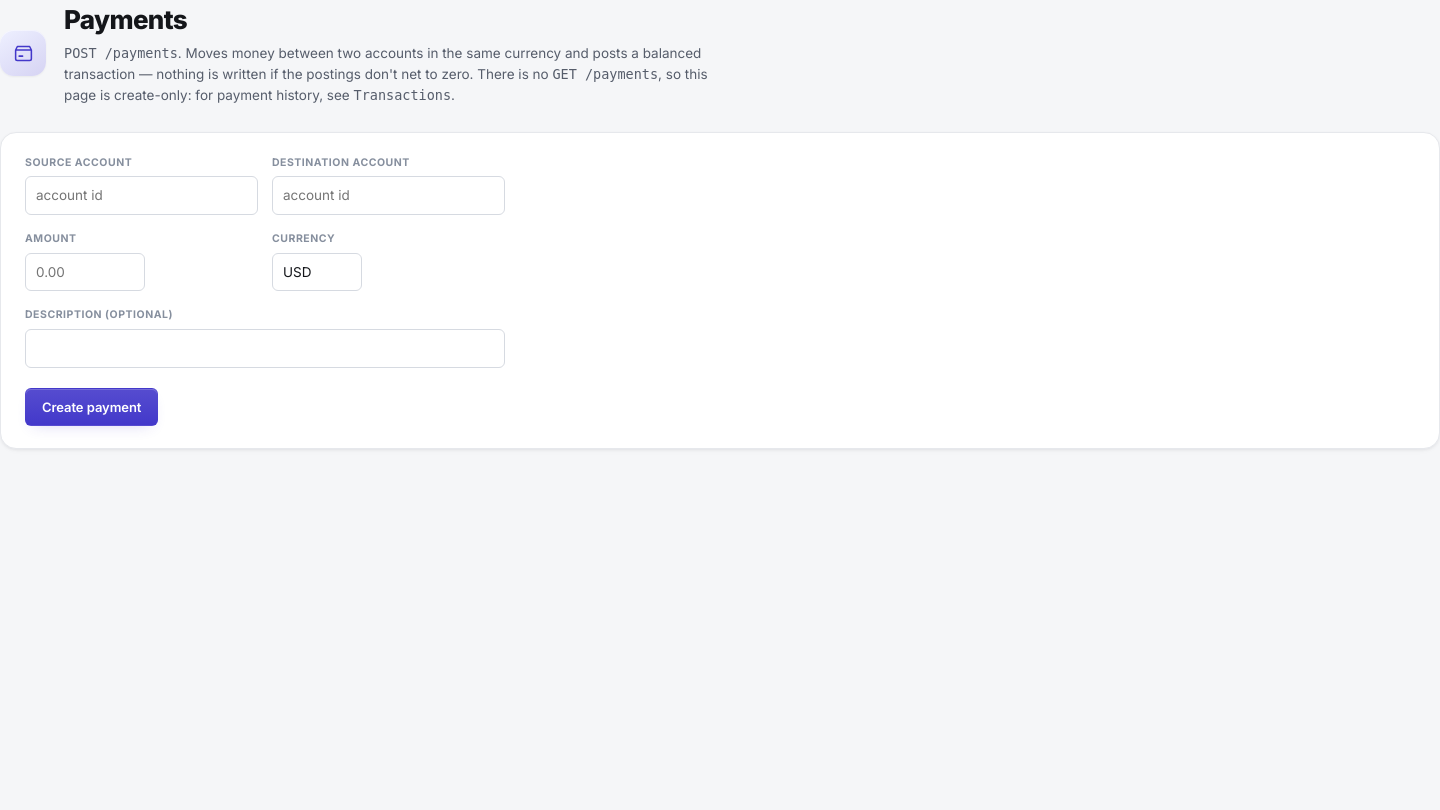
it: LedgerPaymentsPage › posts a payment and shows a receipt with a refund action, never a bare balance change
Type "11111111-1111-1111-1111-111111111111" into the field with placeholder "account id" at (142, 196), box 25,176 -> 258,215
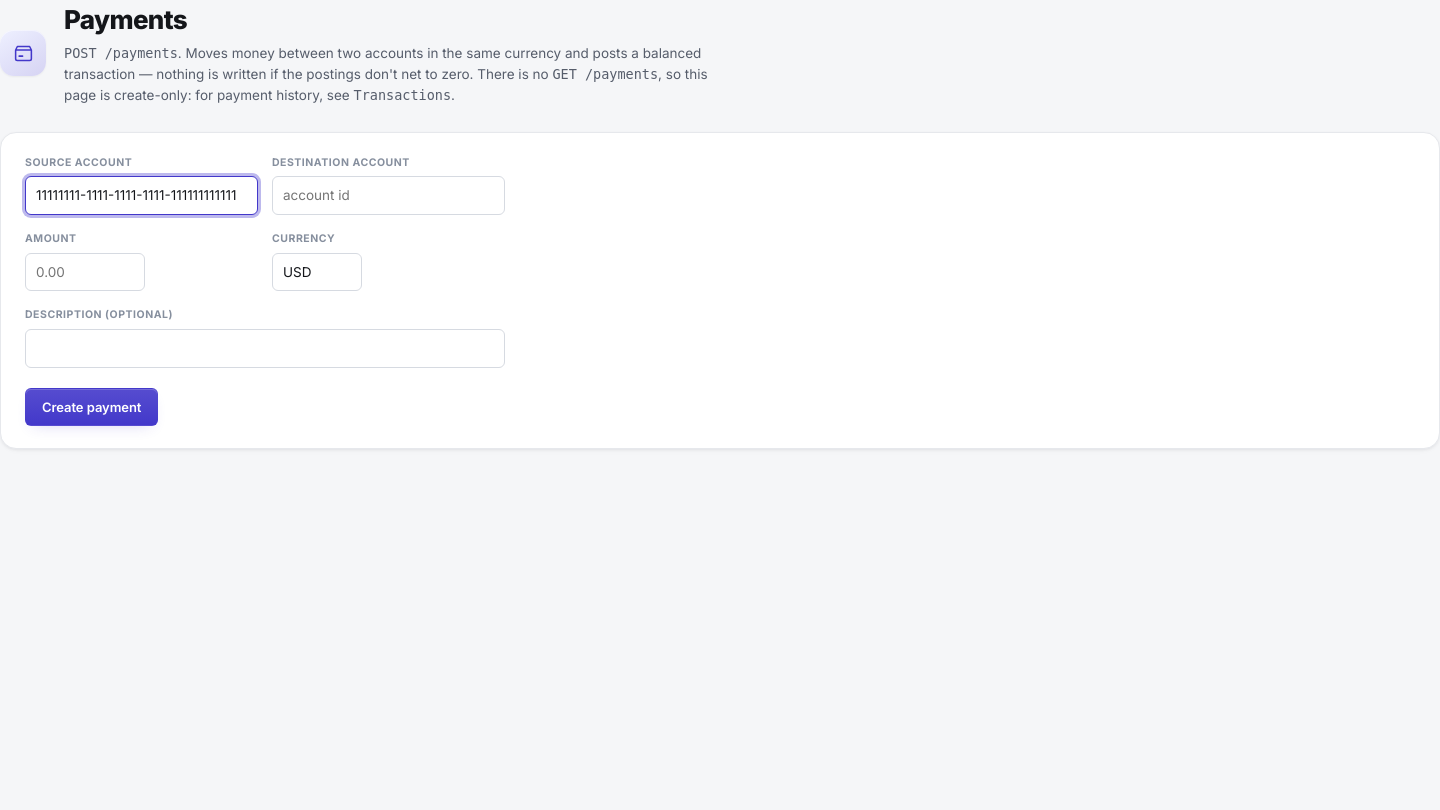
Type "22222222-2222-2222-2222-222222222222" into the field with placeholder "account id" at (388, 196), box 272,176 -> 505,215
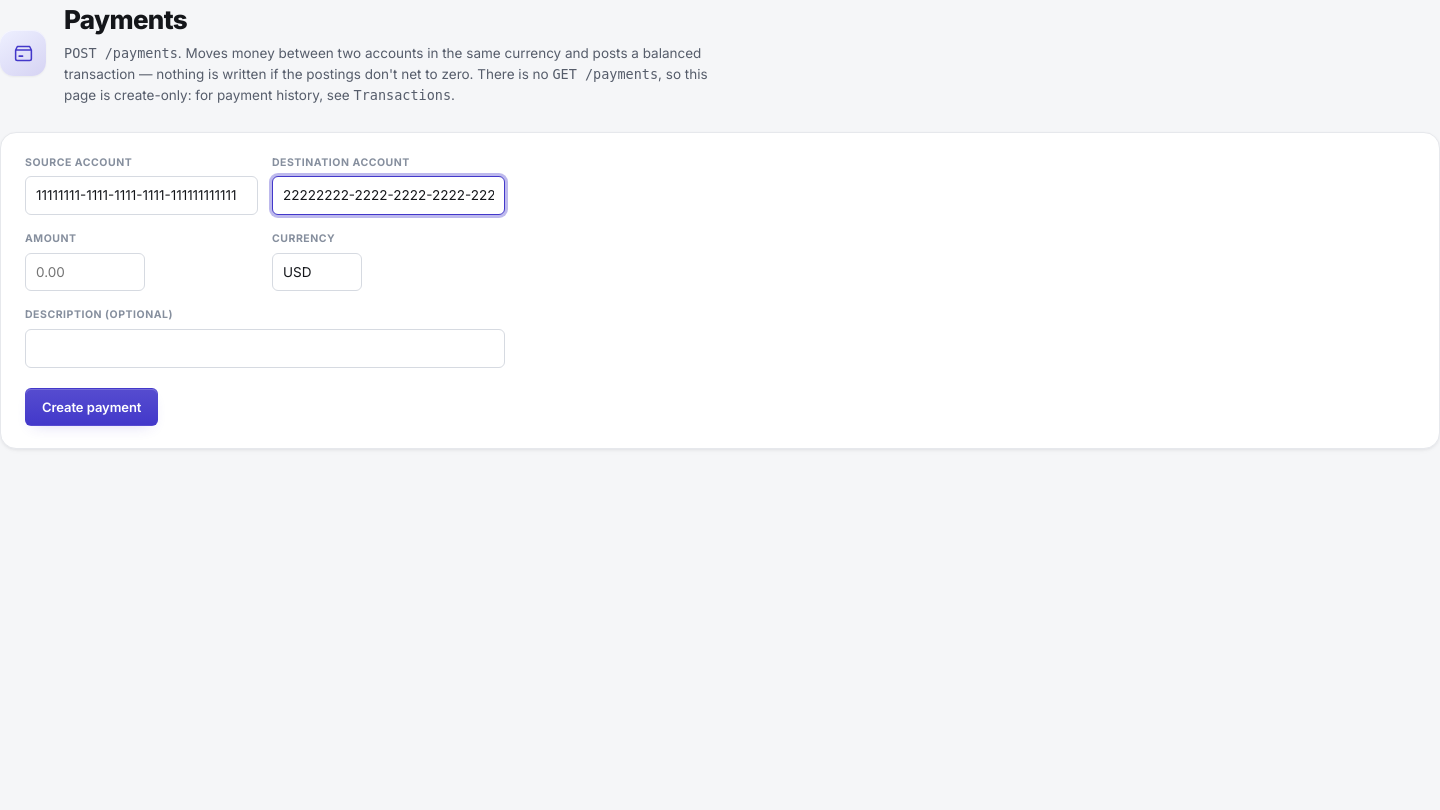
Type "10.25" into the field with placeholder "0.00" at (85, 272), box 25,252 -> 145,291
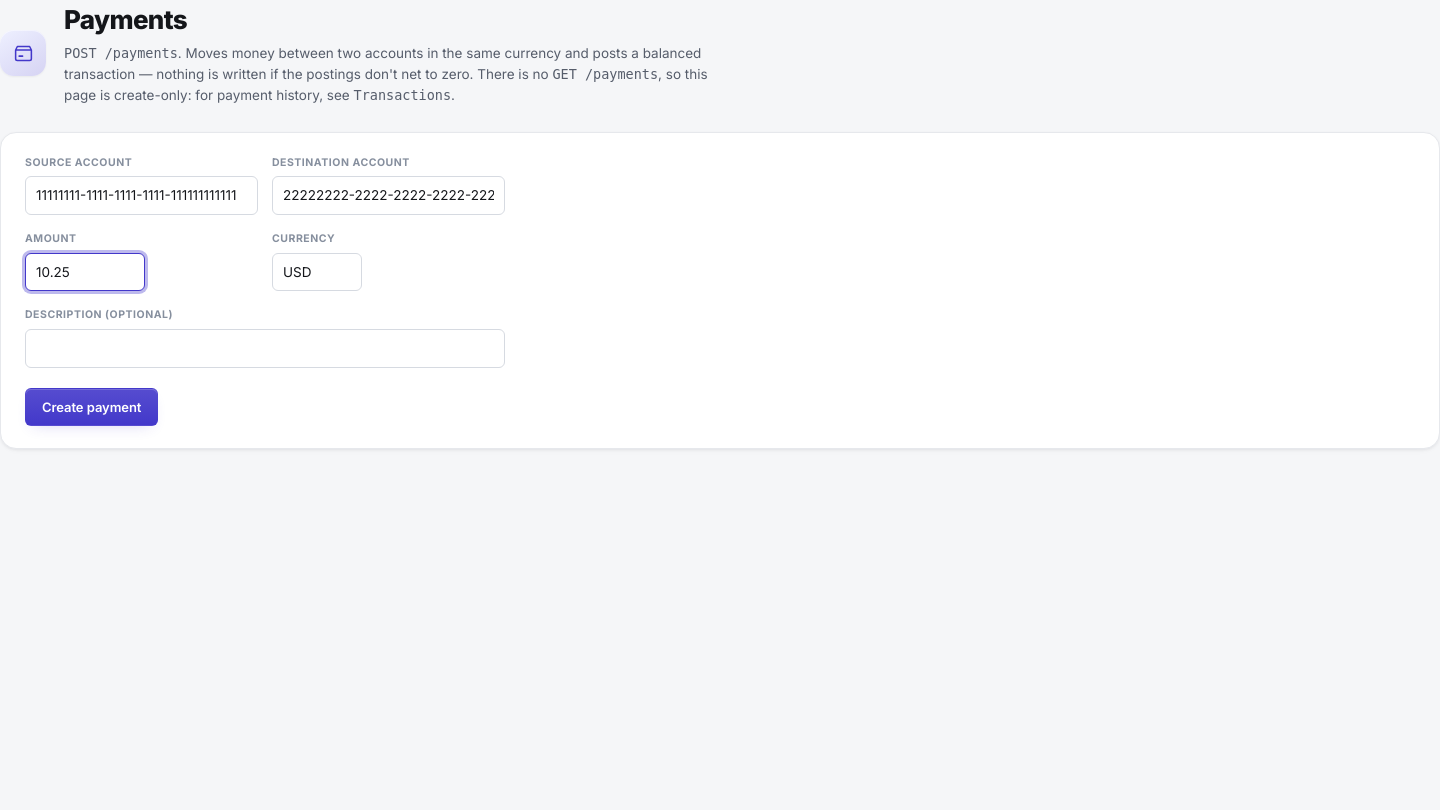
Click the button "Create payment" at (92, 407), box 25,388 -> 158,426
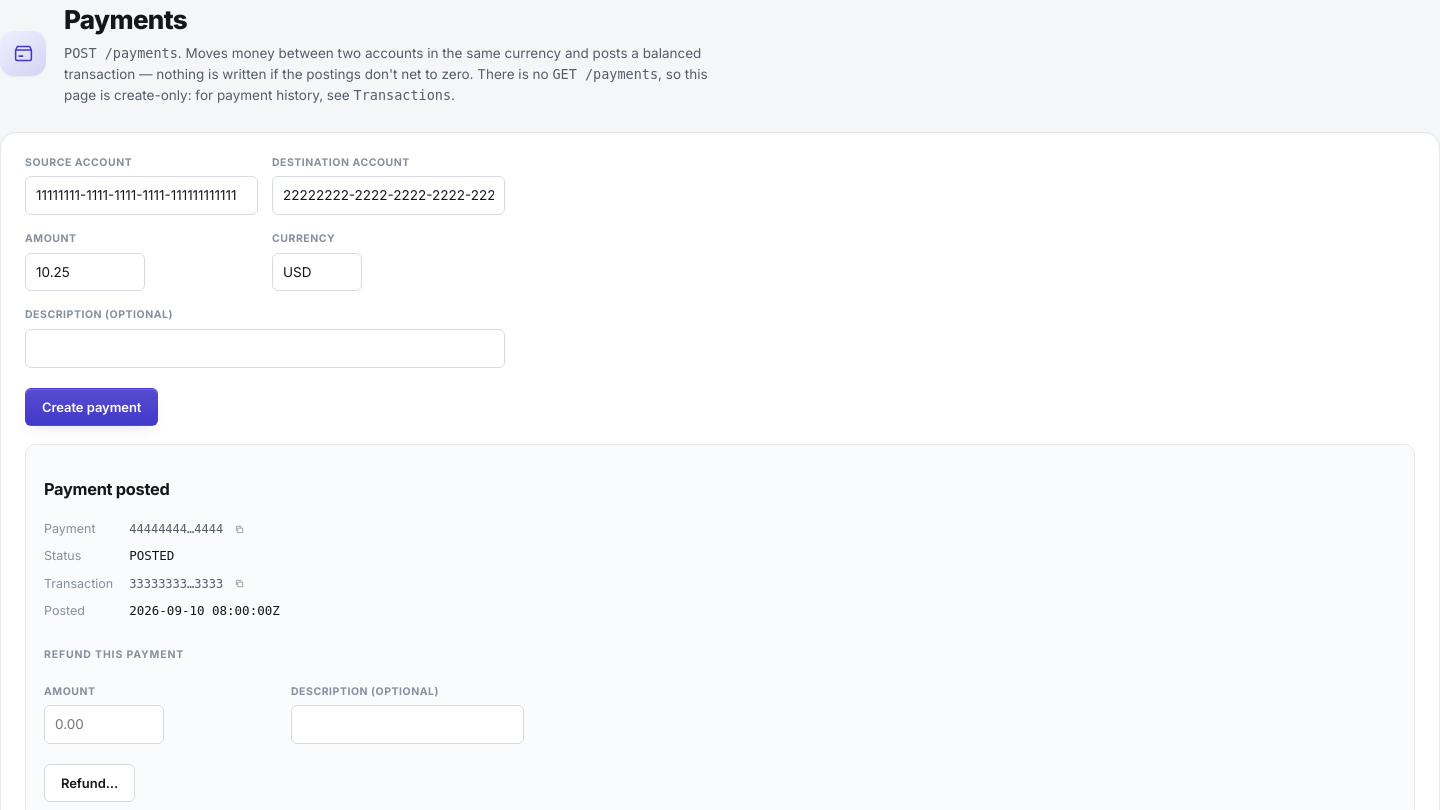
Result: the heading "Payment posted" is shown at 44,479 -> 170,499
Result: the text "Refund this payment" is shown at 44,648 -> 184,661
